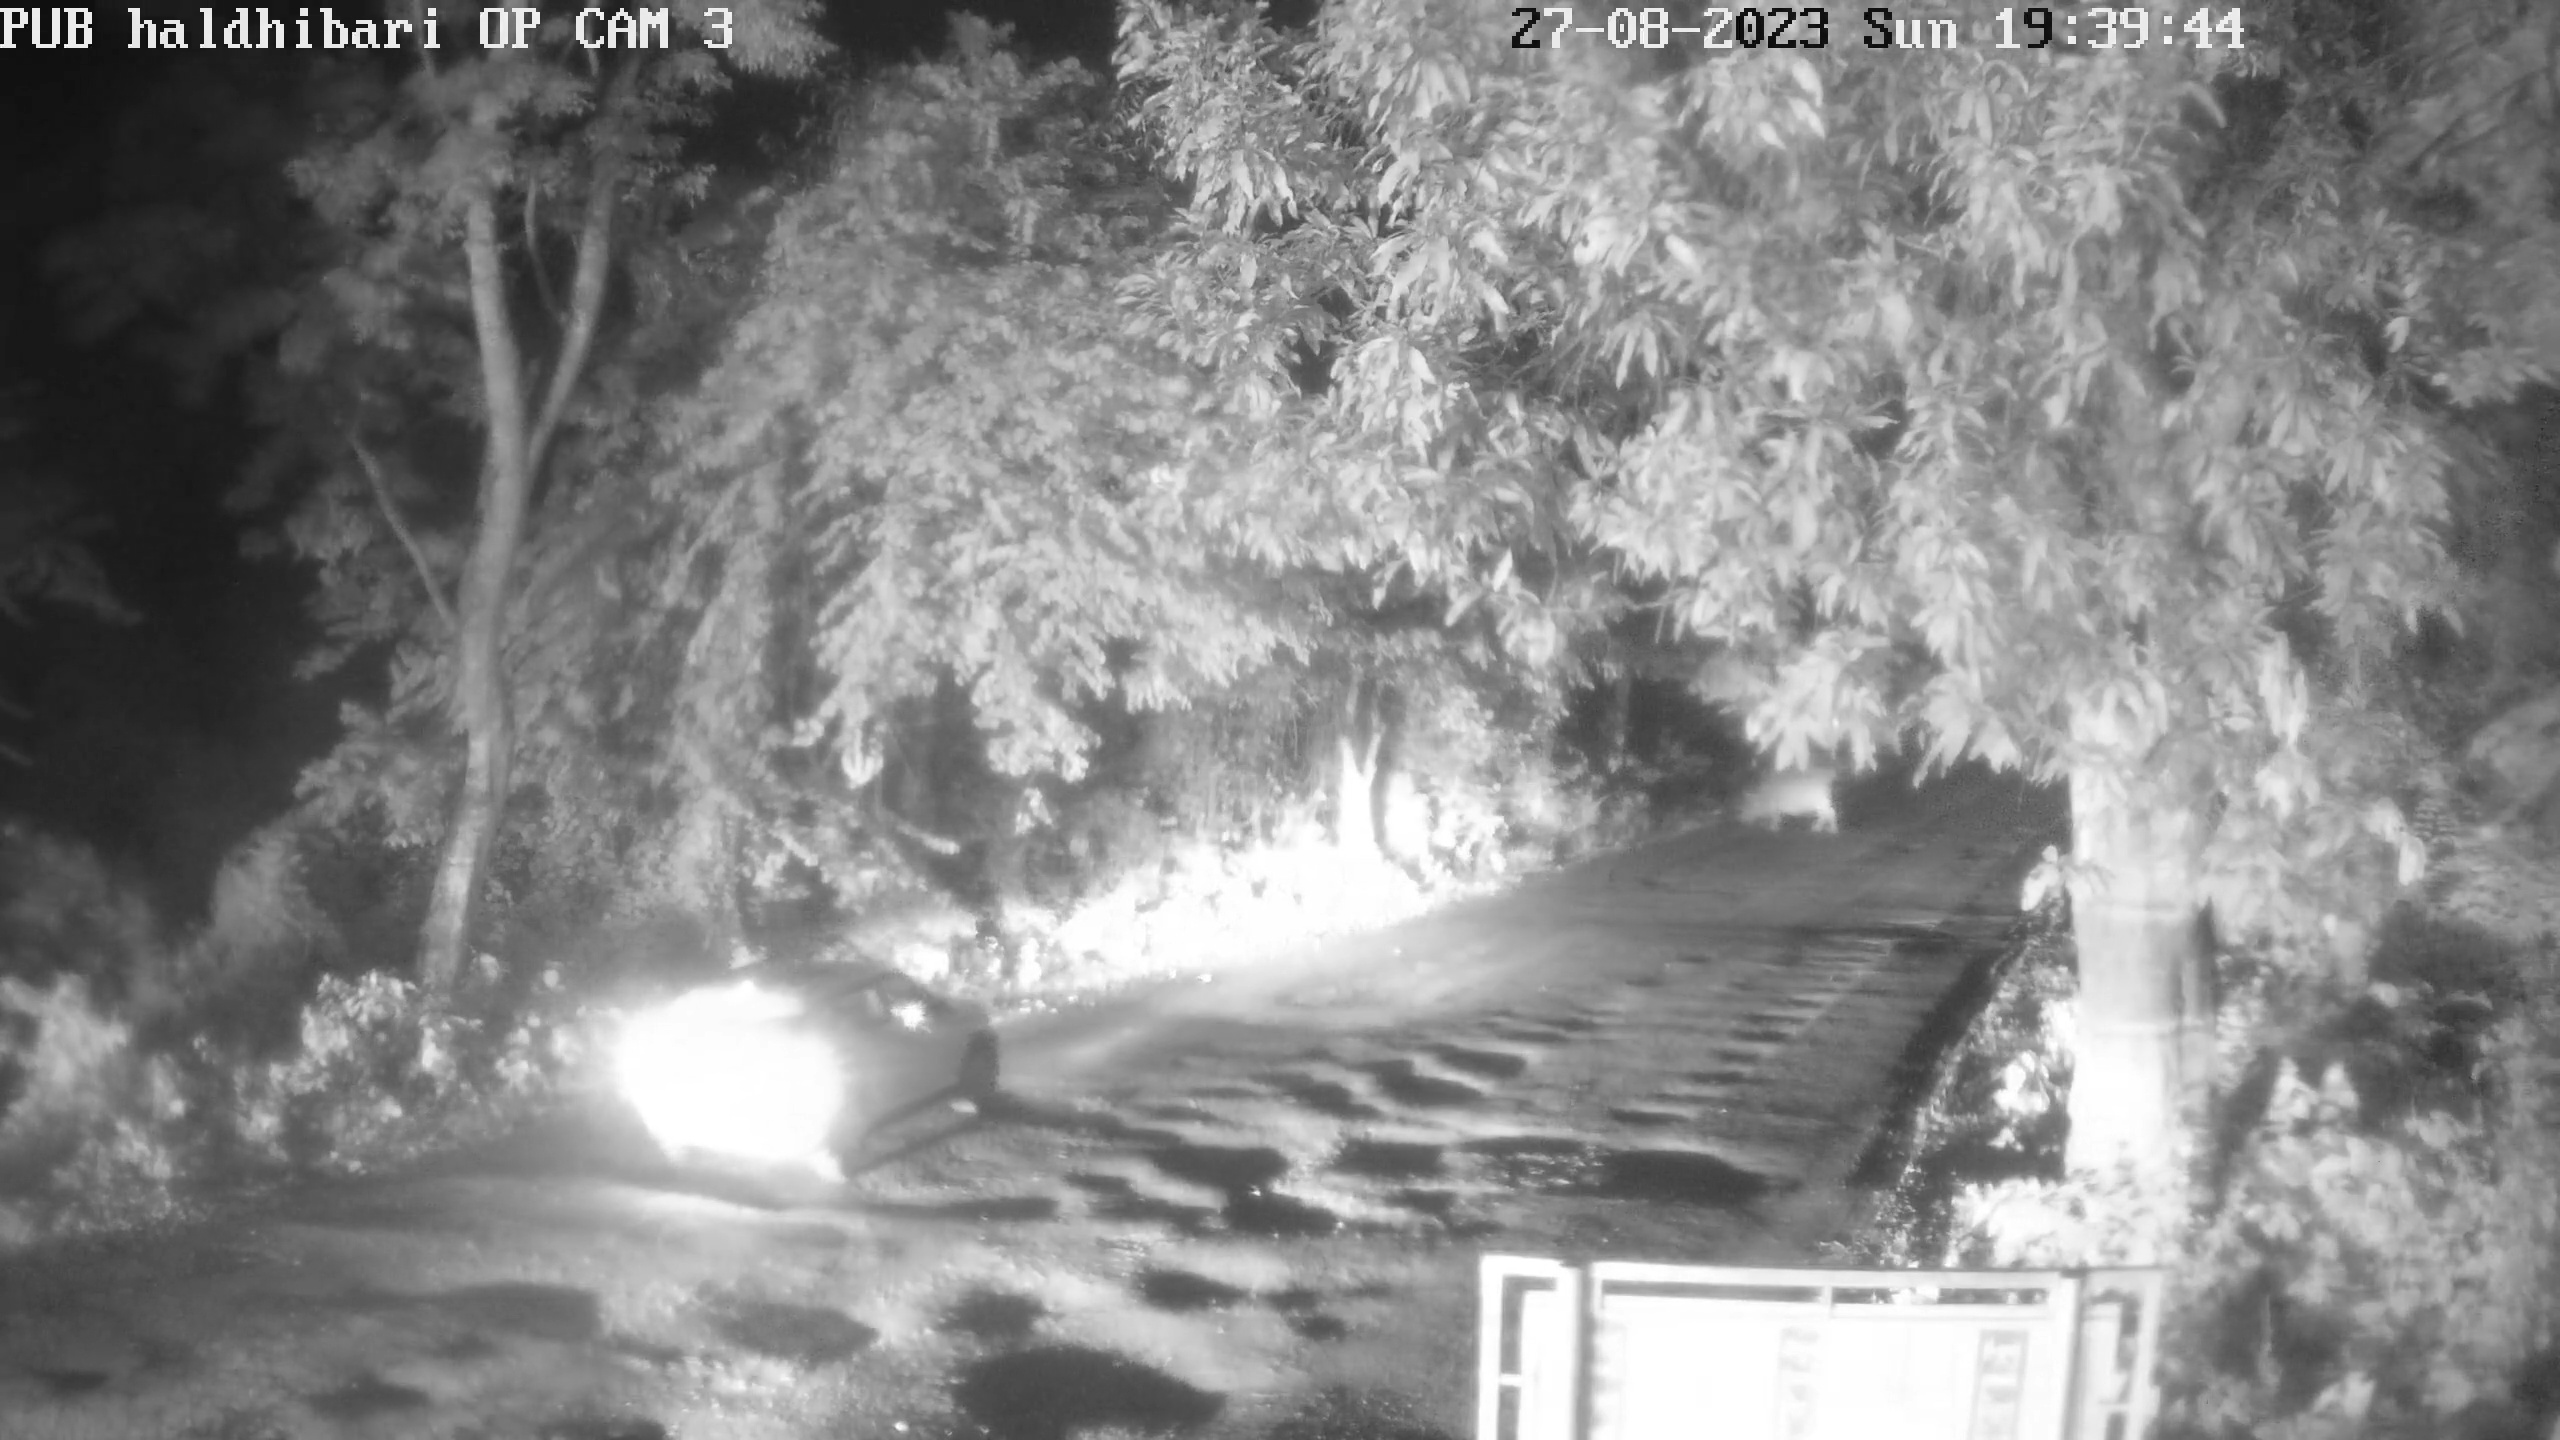rhinos: (1734, 761, 1841, 833)
